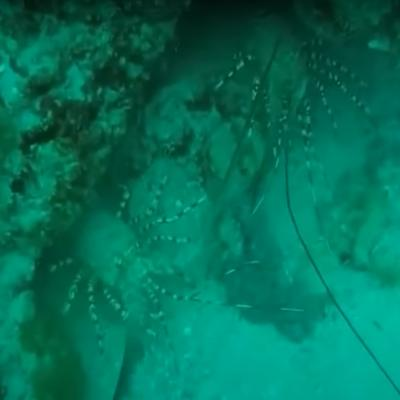lobster: (70, 191, 158, 317), (242, 14, 322, 133)
